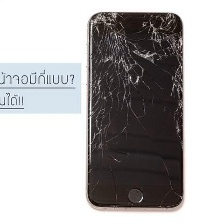phone: (82, 8, 189, 217)
